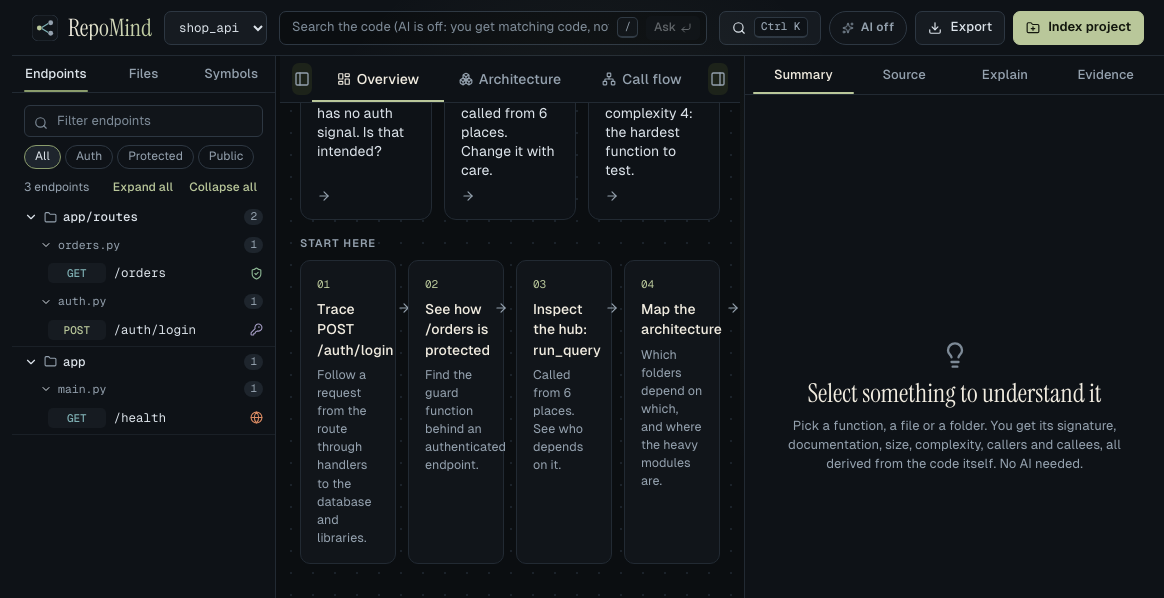
Overview (works with no AI) › "Start here" jumps straight into the auth flow
The width and height of the screenshot is (1164, 598).
(page scrolled)
Click the button "Trace POST /auth/login".
click(348, 412)  # box [300,260,396,564]
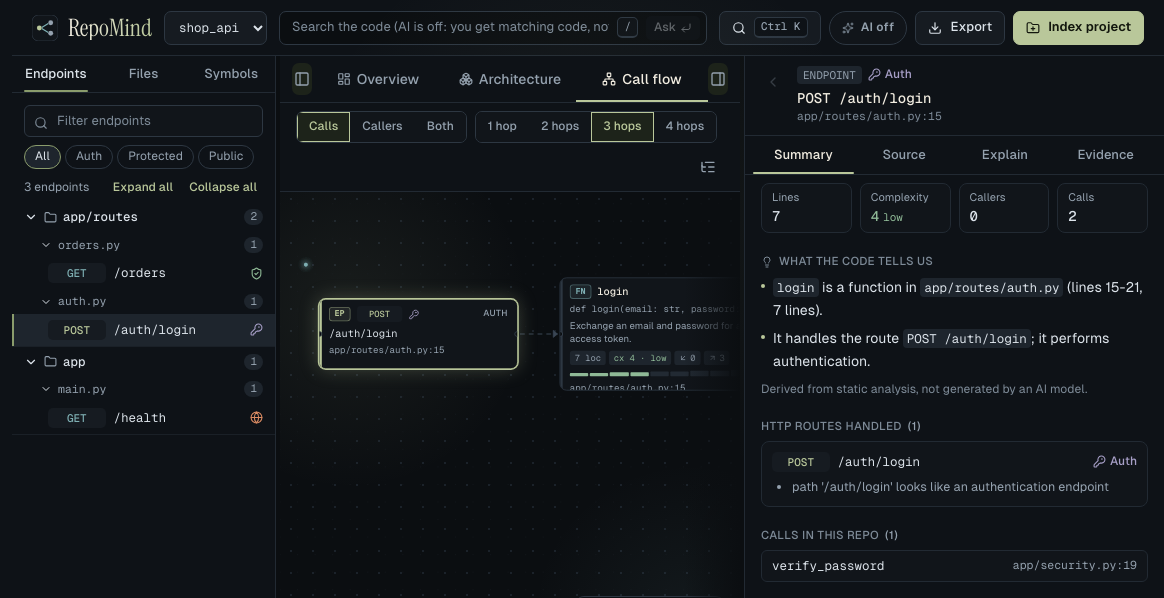
Check: the text "verify_password" is shown, box [772,557,884,575]
